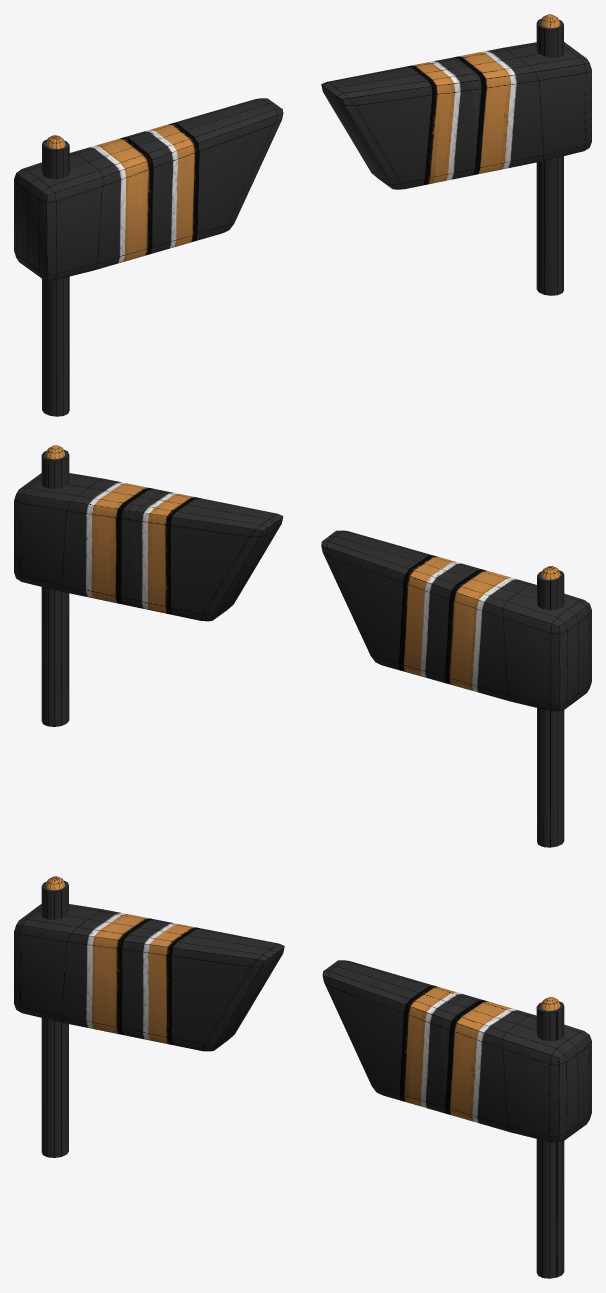
Rendered from VallaHugo1.fbx.
3 renders of one model, top to bottom at view 1: azimuth 30°, elevation 25°; view 2: azimuth 150°, elevation 25°; view 3: azimuth 330°, elevation 25°, orthographic.
Parts seen in each view (by area): view 1: Barrera2; view 2: Barrera2; view 3: Barrera2.
Boxes of the visible parts, left/top/right/bottom form: Barrera2: left=14, top=14, right=591, bottom=416; Barrera2: left=14, top=445, right=591, bottom=847; Barrera2: left=14, top=876, right=591, bottom=1278.
Size of the model in its own units: 333 by 158 by 38.21.
